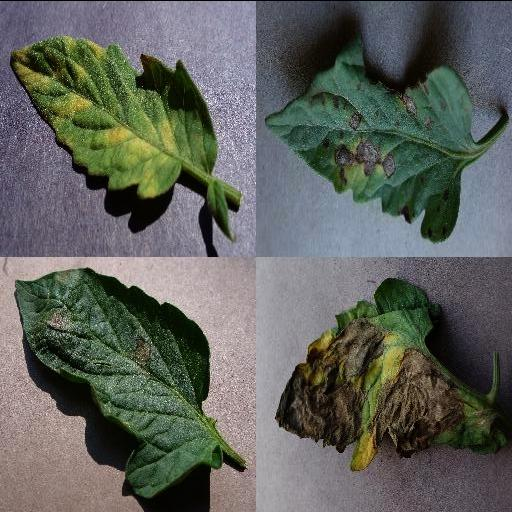Early Blight: (263, 33, 475, 241)
Late Blight: (13, 265, 223, 499), (272, 274, 512, 470)
Leaf Mold: (9, 35, 219, 199)
